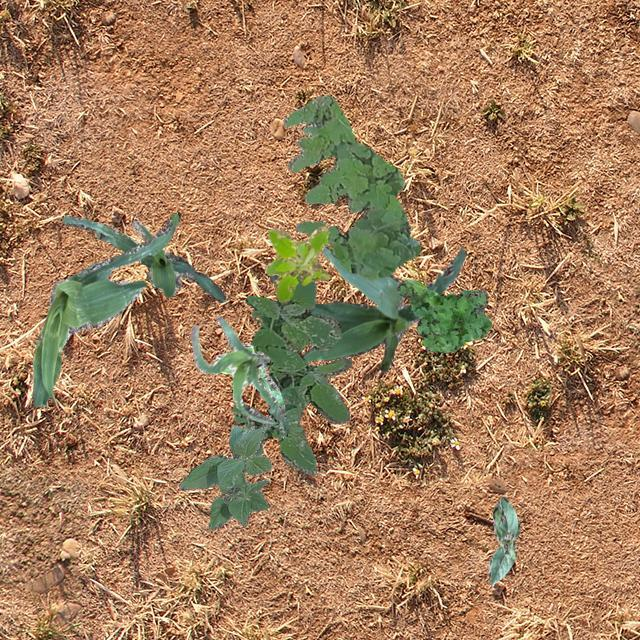crop: (32, 212, 180, 406), (267, 244, 465, 370), (62, 215, 225, 302), (190, 314, 282, 426), (178, 424, 270, 528), (215, 342, 288, 434), (488, 496, 518, 584)
weed: (282, 94, 420, 278), (230, 274, 352, 476), (396, 278, 490, 352), (264, 224, 328, 300)
